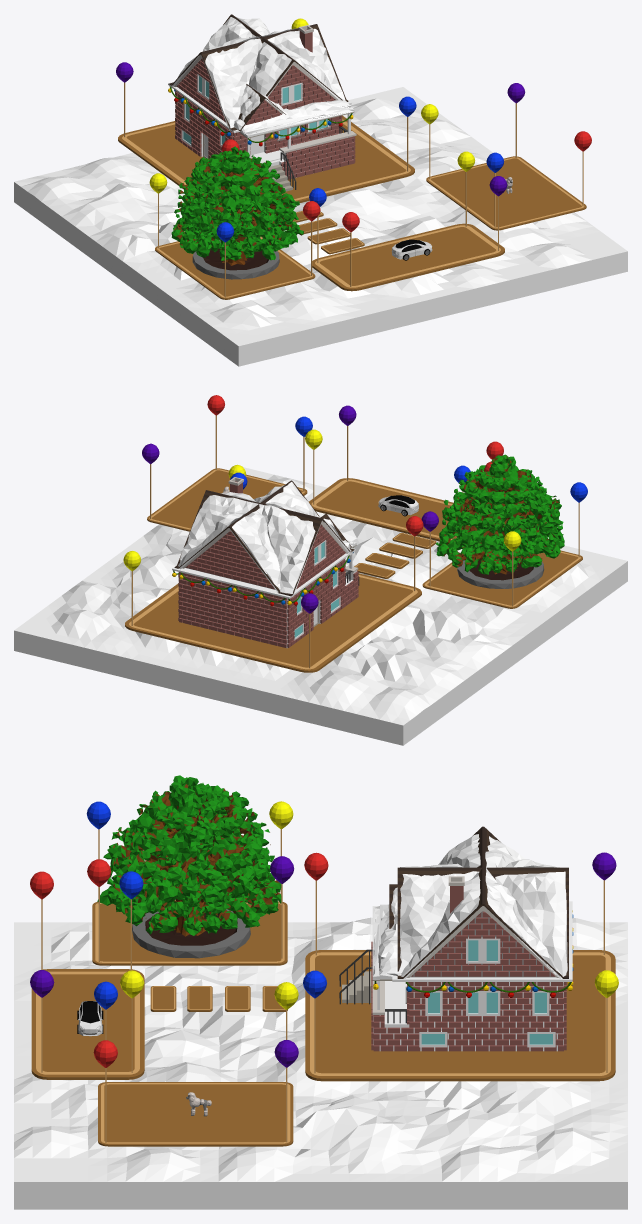
3 views of the same model, one above another, from view 1: azimuth 30°, elevation 25°; view 2: azimuth 150°, elevation 25°; view 3: azimuth 270°, elevation 25° (orthographic). The views are drawn at different scales.
Visible parts, largest first — view 1: Cube.013, Cube.1419, OBJRANDOM_CEIBA, VEHICLES_TESLA; view 2: Cube.013, Cube.1419, OBJRANDOM_CEIBA, VEHICLES_TESLA; view 3: Cube.013, Cube.1419, OBJRANDOM_CEIBA, VEHICLES_TESLA.
Part boxes in pixels (bbox=[...]): Cube.013: bbox=[14, 18, 627, 366]; Cube.1419: bbox=[168, 14, 356, 191]; OBJRANDOM_CEIBA: bbox=[171, 146, 303, 279]; VEHICLES_TESLA: bbox=[391, 239, 432, 260]; Cube.013: bbox=[14, 395, 627, 745]; Cube.1419: bbox=[172, 477, 359, 648]; OBJRANDOM_CEIBA: bbox=[435, 454, 564, 588]; VEHICLES_TESLA: bbox=[378, 495, 418, 516]; Cube.013: bbox=[14, 801, 627, 1209]; Cube.1419: bbox=[339, 826, 573, 1051]; OBJRANDOM_CEIBA: bbox=[97, 775, 281, 958]; VEHICLES_TESLA: bbox=[77, 1001, 103, 1036].
Bounding box in the file's own units: 4000 × 1638 × 4000.
Materials: 37 (2 with a texture image).
